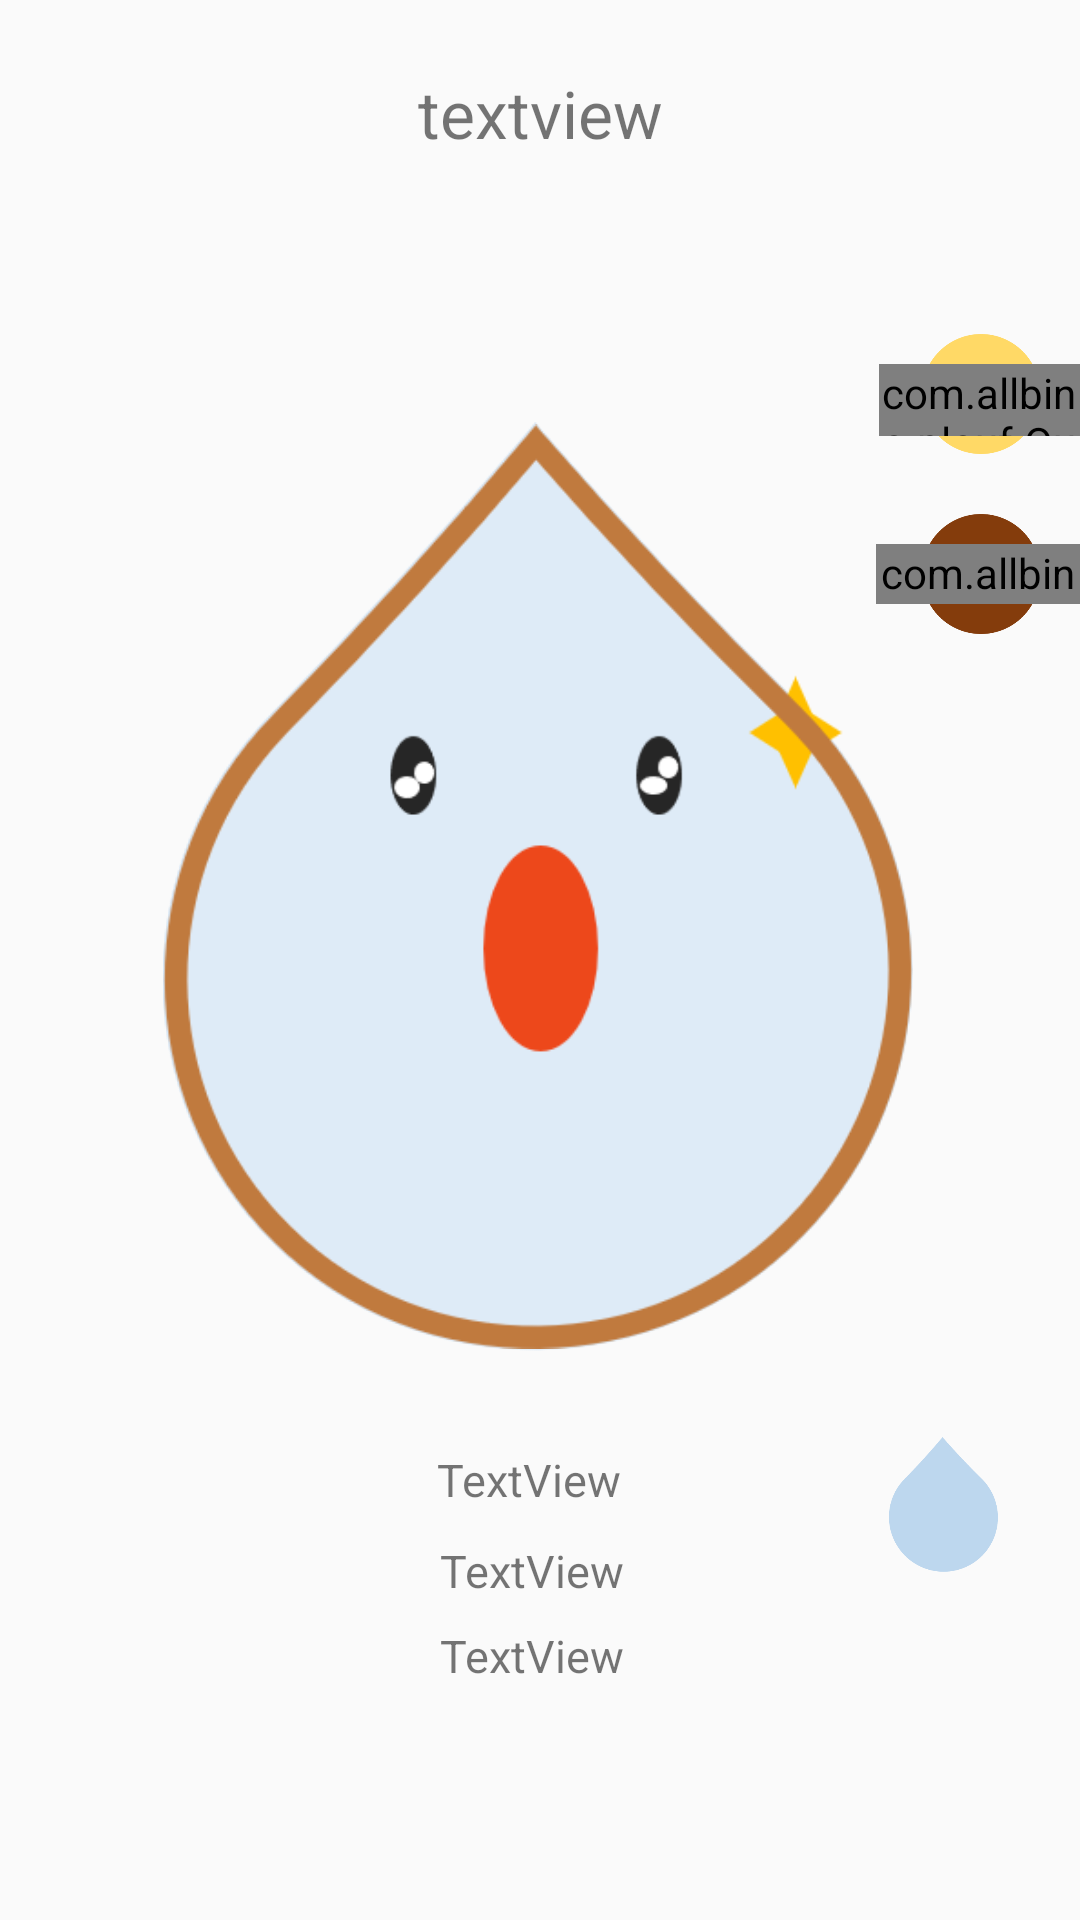

Point at icon controls on the screen. Image size 1080 × 1920, points as (x,y).
drink water: (943,1504)
